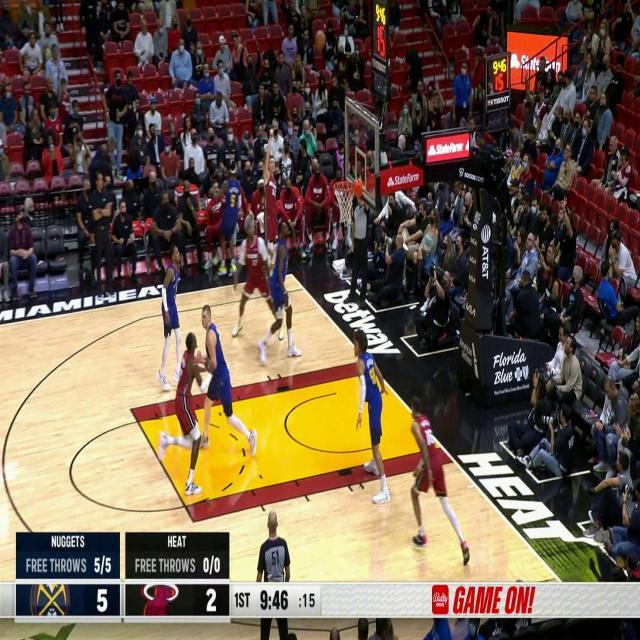rim: (315, 29, 325, 52)
